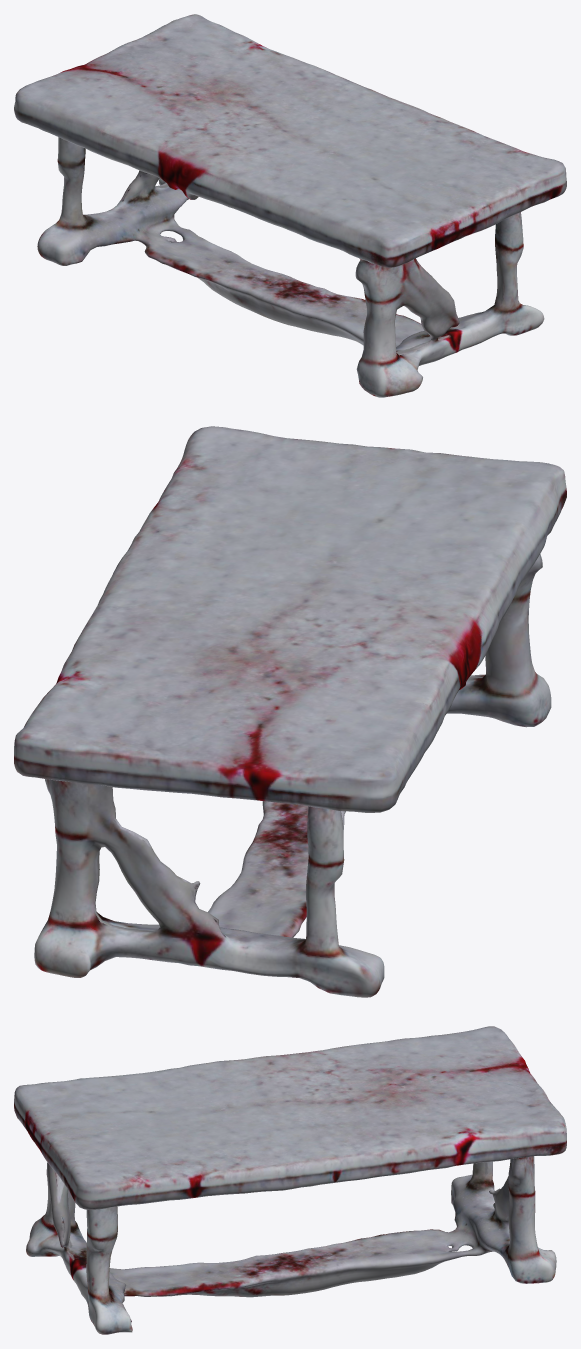
Rendered from 671f261078b2_White__bloodstained.fbx.
3 renders of one model, top to bottom at view 1: azimuth 30°, elevation 25°; view 2: azimuth 150°, elevation 25°; view 3: azimuth 270°, elevation 25°, orthographic. The views are drawn at different scales.
Parts seen in each view (by area): view 1: mesh; view 2: mesh; view 3: mesh.
Part boxes in pixels (bbox=[...]): mesh: bbox=[14, 14, 566, 397]; mesh: bbox=[14, 426, 566, 997]; mesh: bbox=[14, 1026, 566, 1334].
Bounding box in the file's own units: 69.34 × 37.84 × 99.94.
